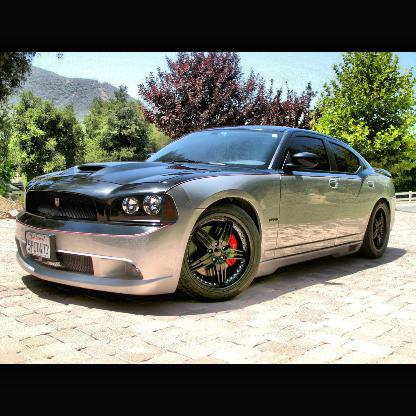Dodge Charger SRT-8 2009: (16, 126, 398, 304)
